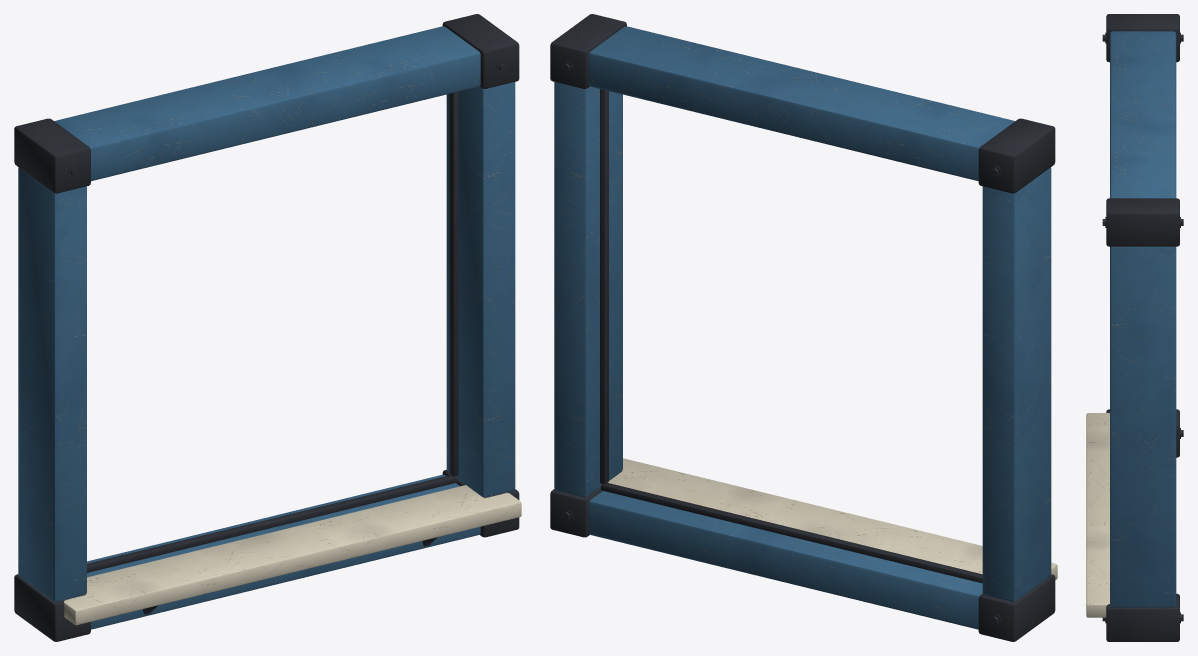
The model's file is window_frame.glb.
3 renders of one model, left to right at view 1: azimuth 30°, elevation 25°; view 2: azimuth 150°, elevation 25°; view 3: azimuth 270°, elevation 25°, orthographic. The views are drawn at different scales.
Parts seen in each view (by area): view 1: WindowFrameBody; view 2: WindowFrameBody; view 3: WindowFrameBody.
Part boxes in pixels (x1,y1,x2,y2): WindowFrameBody: (14, 14, 521, 641); WindowFrameBody: (550, 14, 1057, 641); WindowFrameBody: (1086, 14, 1183, 641).
Bounding box in the file's own units: 1 × 1 × 0.2056.
Materials: 4 (3 with a texture image).
